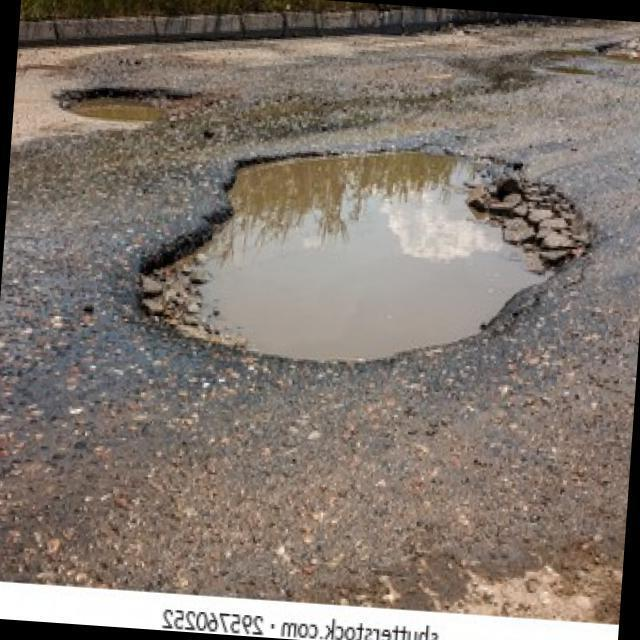pothole: (131, 123, 614, 386), (53, 77, 212, 130), (593, 25, 640, 67)
